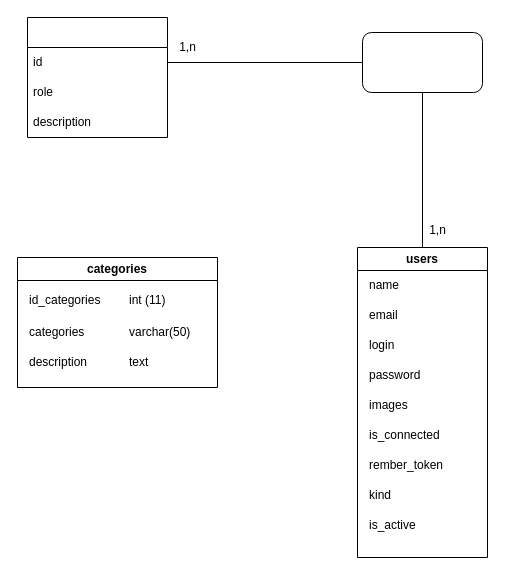
This 505x575 diagram has some shape labels left out. Here are the shapes that lost their labels. From the top down, the box of each, then its label:
(26, 16, 168, 138): roles
(362, 32, 482, 92): roles_users
